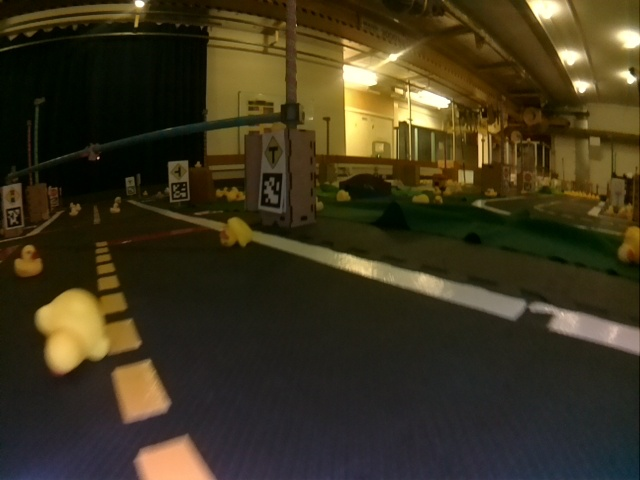Duckie: (36, 290, 109, 375), (219, 216, 252, 246), (15, 245, 42, 277), (617, 226, 639, 263), (337, 191, 350, 202), (314, 197, 324, 211), (413, 194, 429, 202), (434, 196, 444, 204), (69, 209, 78, 216), (110, 205, 118, 212), (195, 161, 201, 170)
Intersection sign: (264, 136, 283, 169), (170, 162, 187, 179)
QR code: (260, 172, 282, 208), (171, 183, 188, 200), (6, 208, 21, 226)
Signal sign: (6, 188, 20, 205)
